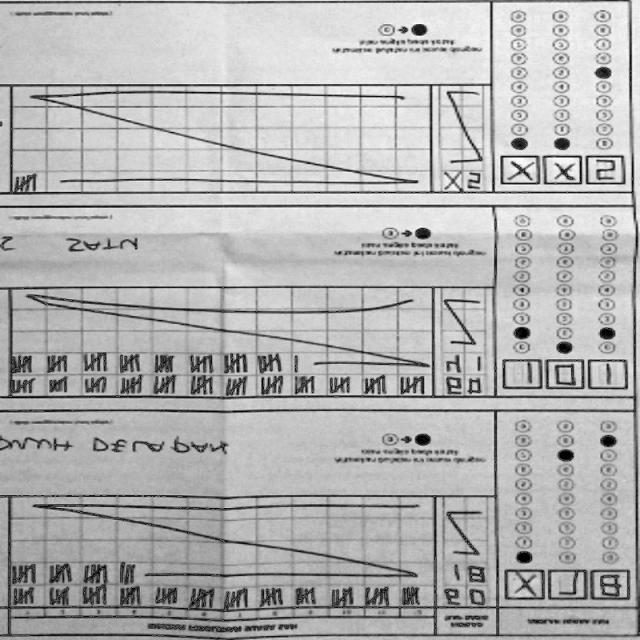Suara: (498, 354, 634, 398), (499, 565, 636, 608), (492, 150, 630, 192)
